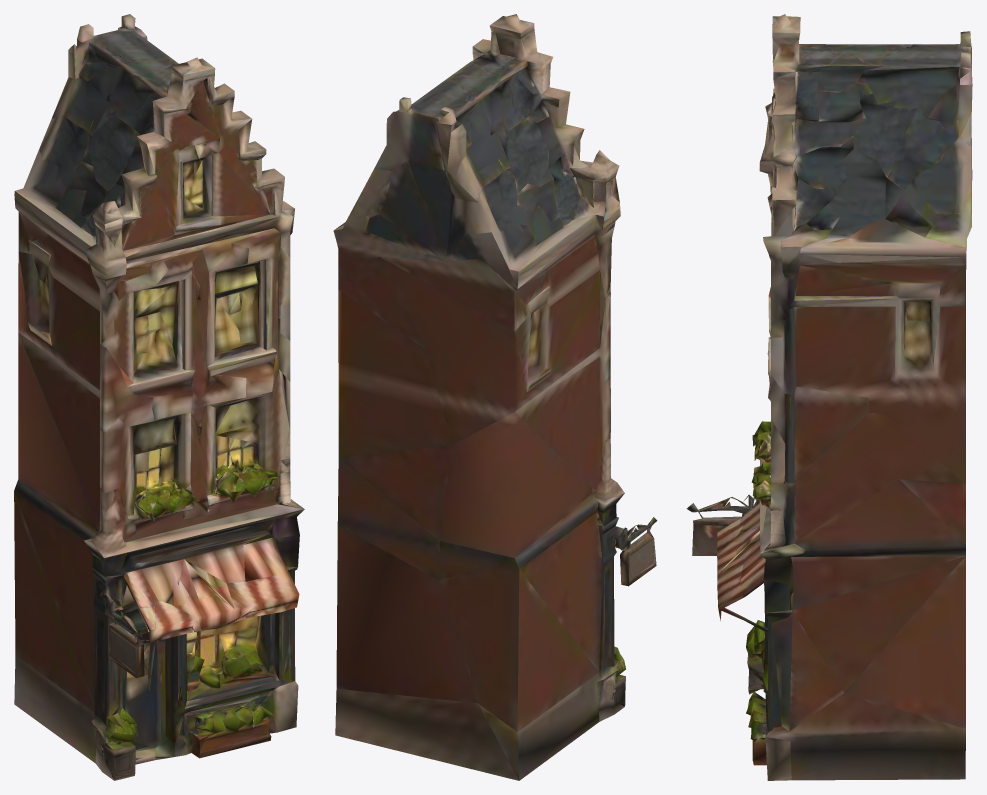
Rendered from getkong-haus1.glb.
3 renders of one model, left to right at view 1: azimuth 30°, elevation 25°; view 2: azimuth 150°, elevation 25°; view 3: azimuth 270°, elevation 25°, orthographic. The views are drawn at different scales.
Parts seen in each view (by area): view 1: output_unwrapped; view 2: output_unwrapped; view 3: output_unwrapped.
Boxes of the visible parts, box(x1,y1,x2,y2) form: output_unwrapped: box(14, 14, 304, 780); output_unwrapped: box(333, 14, 657, 780); output_unwrapped: box(686, 14, 972, 780).
Size of the model in its own units: 0.5834 by 1.9 by 0.6866.
1 material, 1 textured.
